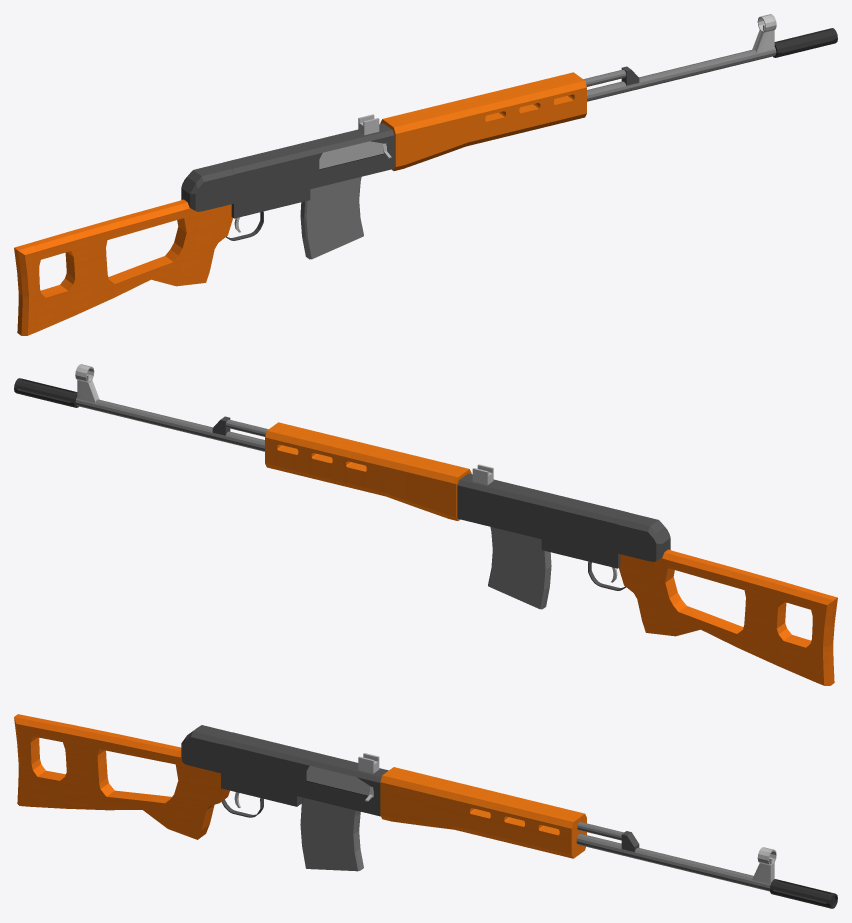
The model's file is Dragunov.fbx.
3 views of the same model, one above another, from view 1: azimuth 30°, elevation 25°; view 2: azimuth 150°, elevation 25°; view 3: azimuth 330°, elevation 25° (orthographic).
Visible parts, largest first — view 1: Cube.001, Cube.003, Cube, Cube.002, Cylinder, Cube.008, Cylinder.001, Cube.004; view 2: Cube.001, Cube, Cube.003, Cube.002, Cylinder, Cylinder.001, Cube.004; view 3: Cube.001, Cube.003, Cube, Cube.002, Cylinder, Cube.008, Cube.004, Cylinder.001, Cube.007.
Boxes of the visible parts, x1,y1,x2,y2 form: Cube.001: (14, 199, 232, 335); Cube.003: (380, 72, 586, 170); Cube: (181, 123, 394, 218); Cube.002: (300, 177, 363, 259); Cylinder: (587, 28, 837, 101); Cube.008: (319, 141, 391, 169); Cylinder.001: (752, 14, 776, 53); Cube.004: (583, 66, 639, 86); Cube.001: (619, 549, 837, 685); Cube: (457, 473, 670, 568); Cube.003: (265, 422, 471, 520); Cube.002: (488, 527, 551, 609); Cylinder: (14, 378, 264, 451); Cylinder.001: (75, 364, 99, 403); Cube.004: (212, 416, 268, 436); Cube.001: (14, 714, 229, 839); Cube.003: (380, 767, 586, 858); Cube: (181, 725, 388, 816); Cube.002: (300, 797, 363, 871); Cylinder: (576, 833, 837, 908); Cube.008: (306, 766, 373, 801); Cube.004: (577, 822, 639, 852); Cylinder.001: (752, 847, 776, 884); Cube.007: (358, 753, 379, 773).
Size of the model in its own units: 978 by 155 by 40.11.
